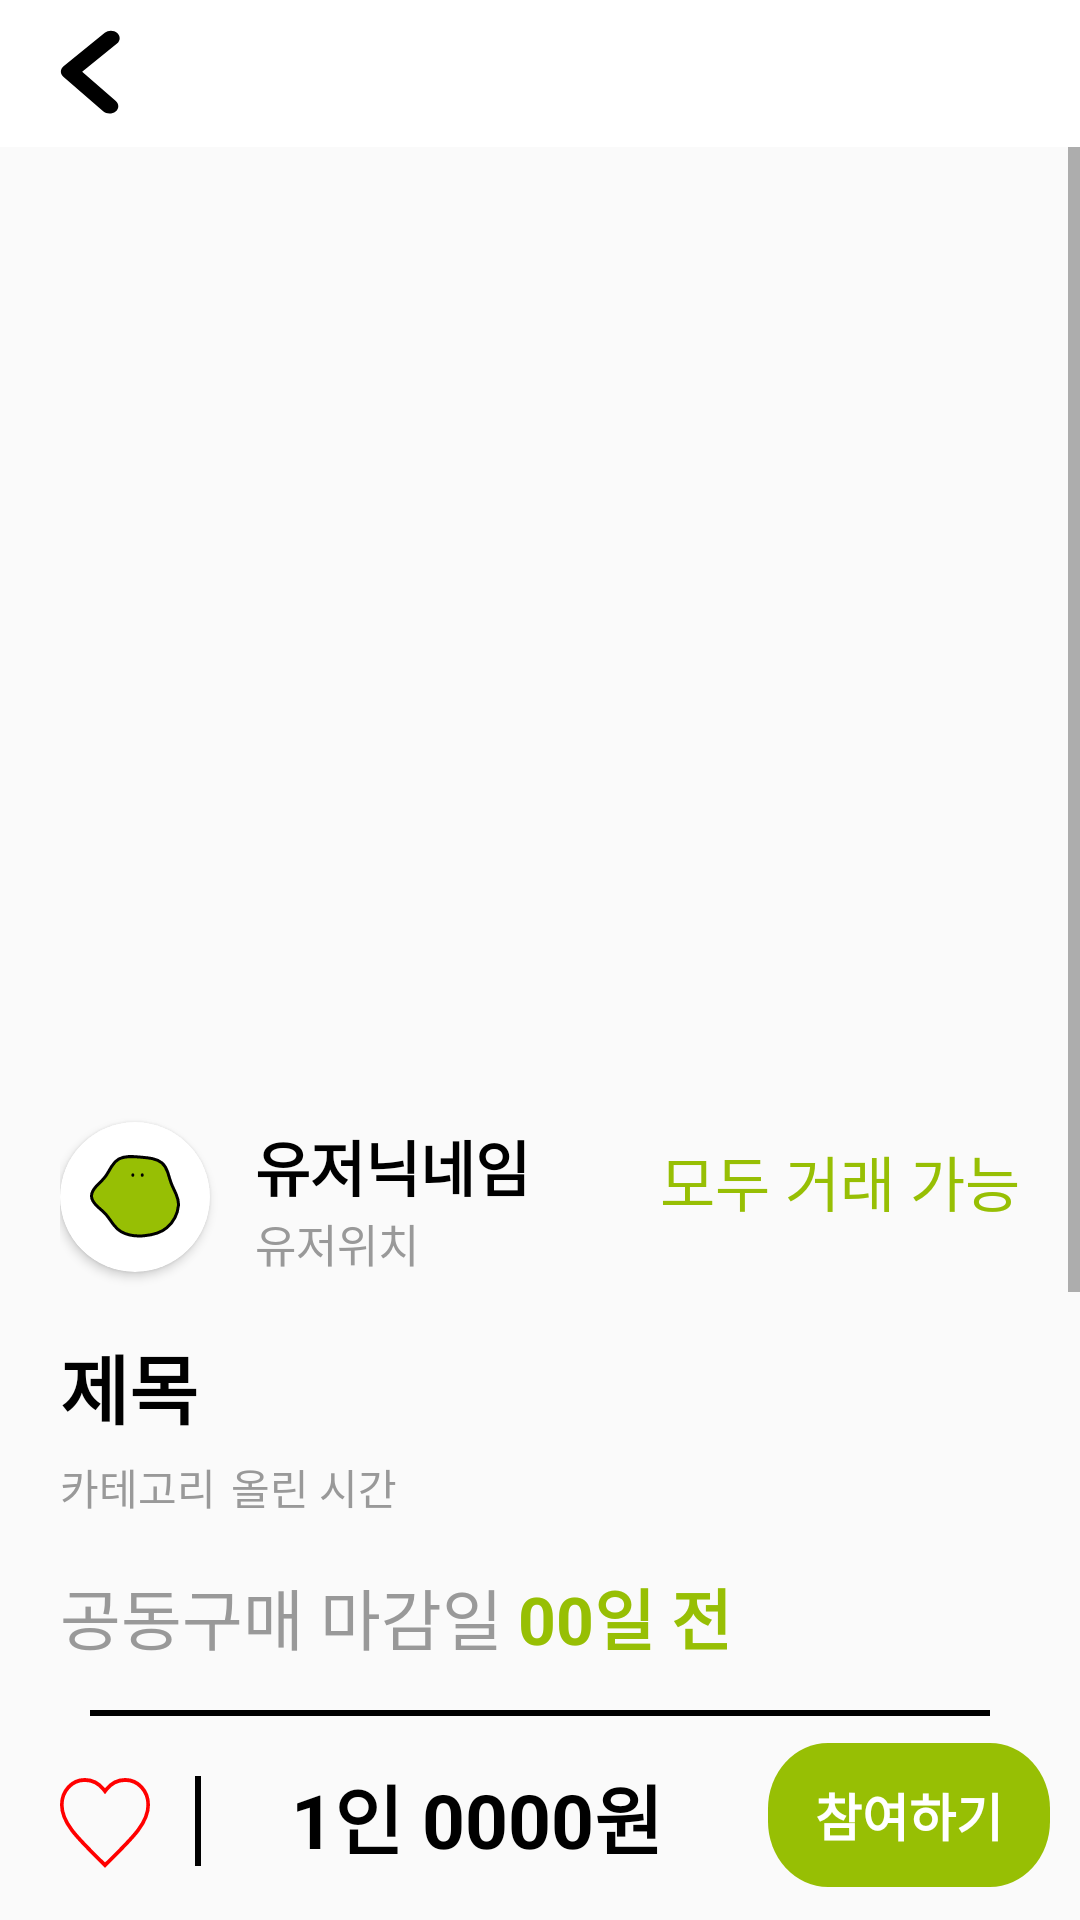

Icon click points for this 1080px x 1920px phone screenshot, format point (x, y):
Go Back: point (90, 72)
